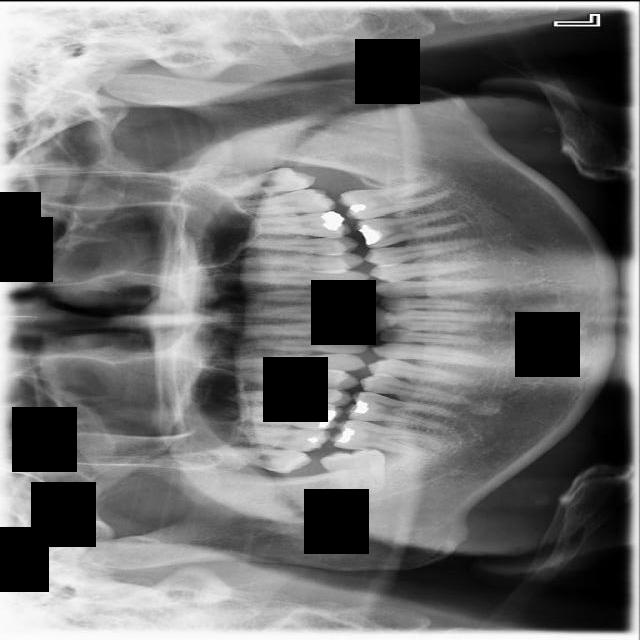3M ESPE Implant: (204, 444, 314, 474)
52: (336, 183, 392, 223), (327, 416, 387, 453), (354, 213, 406, 250), (344, 390, 397, 424), (282, 426, 334, 453), (304, 209, 352, 238), (298, 402, 343, 430)
73: (620, 11, 628, 17)
BioHorizons Implant: (217, 187, 337, 216)
BioLife Implant: (206, 163, 317, 200)
Blue Sky Bio Implant: (336, 177, 451, 222)
Caries: (211, 423, 333, 453)
Implant: (328, 416, 445, 460)
Keystone Dental Implant: (319, 445, 388, 499)
